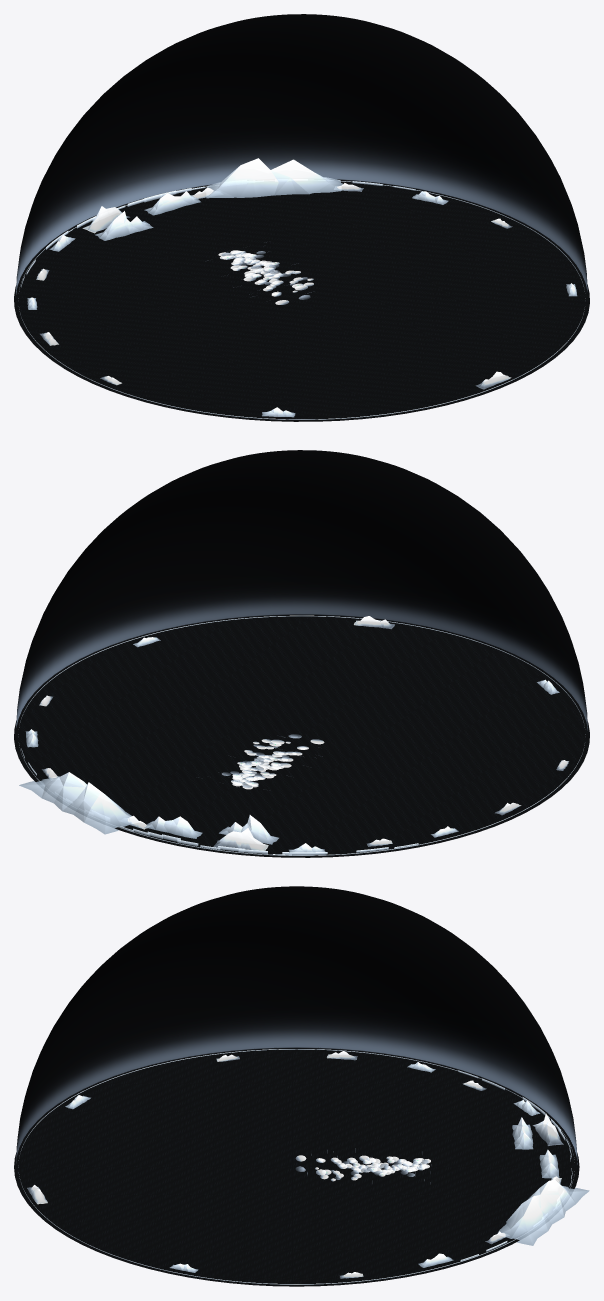
Rendered from hielo0.glb.
3 renders of one model, top to bottom at view 1: azimuth 30°, elevation 25°; view 2: azimuth 150°, elevation 25°; view 3: azimuth 270°, elevation 25°, orthographic.
Visible parts, largest first — view 1: Mar_Oscuro, Atmosfera_Fondo, Cordillera_Nieve_04, Horizonte_Glaciar, Cordillera_Nieve_01.001, Cordillera_Nieve_01, Cordillera_Nieve_03; view 2: Mar_Oscuro, Atmosfera_Fondo, Cordillera_Nieve_04, Horizonte_Glaciar, Cordillera_Nieve_01, Cordillera_Nieve_03, Cordillera_Nieve_01.001; view 3: Mar_Oscuro, Atmosfera_Fondo, Cordillera_Nieve_04, Horizonte_Glaciar, Cordillera_Nieve_01.001.
Boxes of the visible parts, x1,y1,x2,y2 form: Mar_Oscuro: (14,180,589,421); Atmosfera_Fondo: (16,14,587,294); Cordillera_Nieve_04: (206,158,342,198); Horizonte_Glaciar: (18,180,585,419); Cordillera_Nieve_01.001: (95,211,153,240); Cordillera_Nieve_01: (144,191,200,215); Cordillera_Nieve_03: (82,206,129,233); Mar_Oscuro: (14,615,589,857); Atmosfera_Fondo: (16,450,587,730); Cordillera_Nieve_04: (19,772,138,834); Horizonte_Glaciar: (18,615,585,855); Cordillera_Nieve_01: (144,816,202,838); Cordillera_Nieve_03: (213,828,268,850); Cordillera_Nieve_01.001: (219,815,278,844); Mar_Oscuro: (14,1048,579,1286); Atmosfera_Fondo: (16,886,577,1164); Cordillera_Nieve_04: (497,1179,589,1245); Horizonte_Glaciar: (18,1049,574,1284); Cordillera_Nieve_01.001: (512,1117,533,1149).
Bounding box in the file's own units: 121 × 60.18 × 123.
6 materials, 6 textured.
